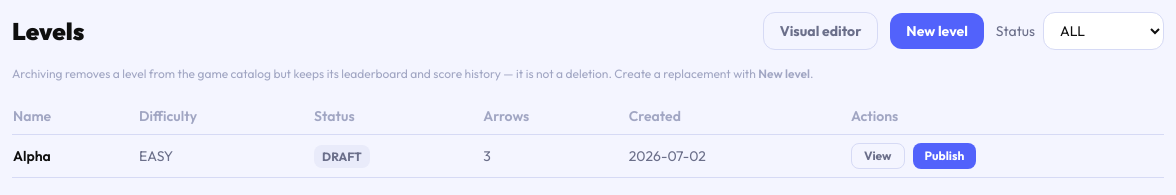
Scenario: AdminLevelsRoute › publishes a draft and reflects the refreshed status
Click the button with test id "publish-l1". click: coordinates (944, 156)
box: x1=912 y1=143 x2=976 y2=169
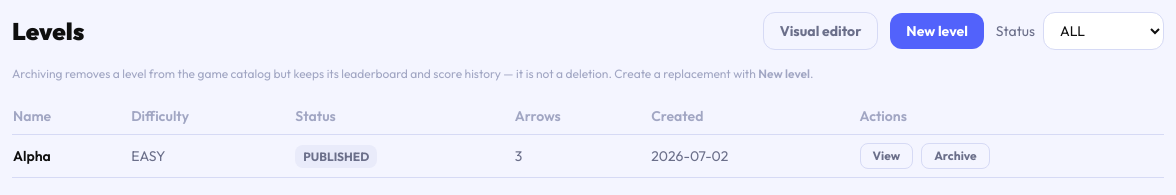
Now the text with test id "level-status-l1" reads "PUBLISHED", box x1=303 y1=149 x2=369 y2=164
